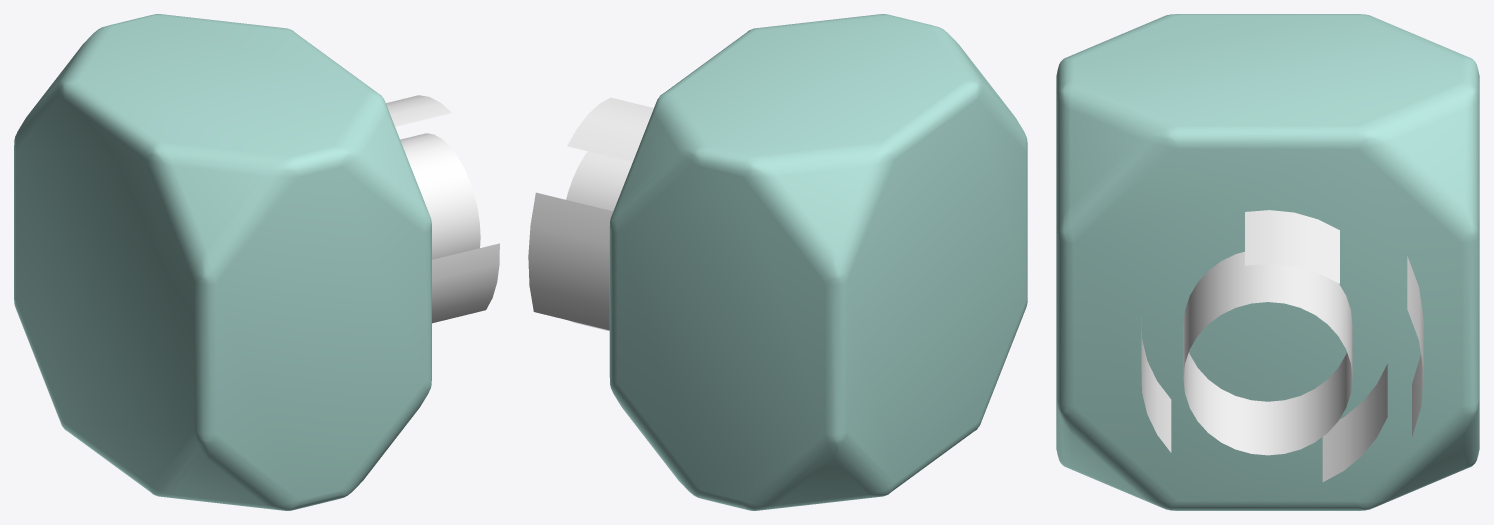
File: tractor_beam_source.glb
3 views of the same model, side by side, from view 1: azimuth 30°, elevation 25°; view 2: azimuth 150°, elevation 25°; view 3: azimuth 270°, elevation 25° (orthographic). The views are drawn at different scales.
Visible parts, largest first — view 1: tractor_beam_source; view 2: tractor_beam_source; view 3: tractor_beam_source.
Boxes of the visible parts, x1,y1,x2,y2 form: tractor_beam_source: (14,14,499,510); tractor_beam_source: (528,14,1027,510); tractor_beam_source: (1056,14,1479,510).
Bounding box in the file's own units: 1 × 1 × 1.
